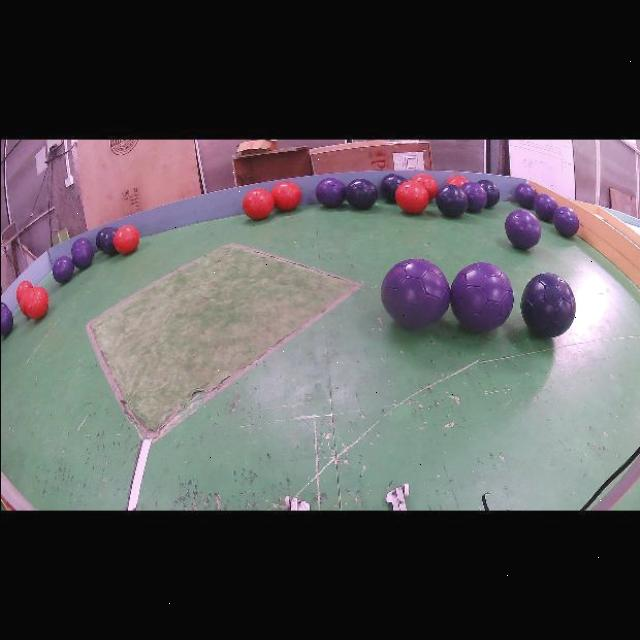P: (380, 258, 450, 328), (450, 263, 513, 331), (504, 208, 540, 248), (314, 178, 345, 207), (460, 180, 487, 211), (553, 205, 579, 237), (532, 193, 557, 220), (514, 183, 536, 207)
